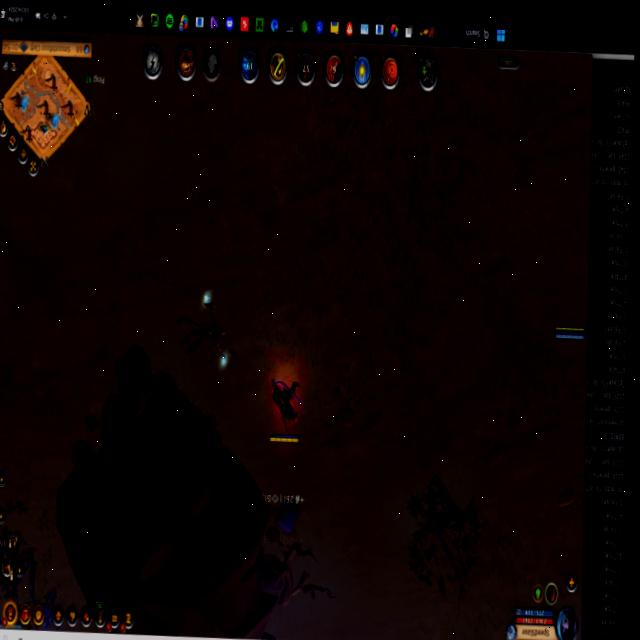red: (265, 366, 305, 447), (553, 320, 586, 345)
